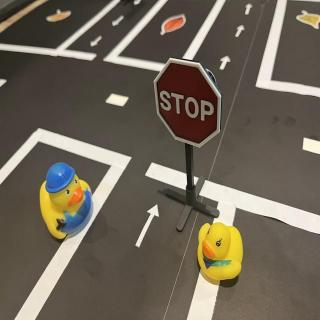duck_regular: (197, 221, 245, 283)
duck_specialty: (40, 161, 95, 243)
road_oneway: (133, 203, 165, 251), (110, 12, 128, 30), (89, 32, 107, 50), (218, 54, 234, 72), (235, 23, 249, 40), (244, 2, 254, 16)
sign_stop: (155, 59, 223, 148)
